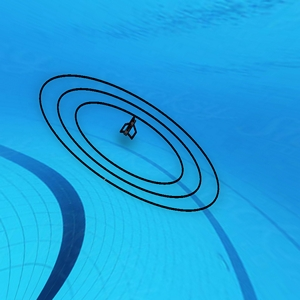submarine: (120, 117, 141, 141)
